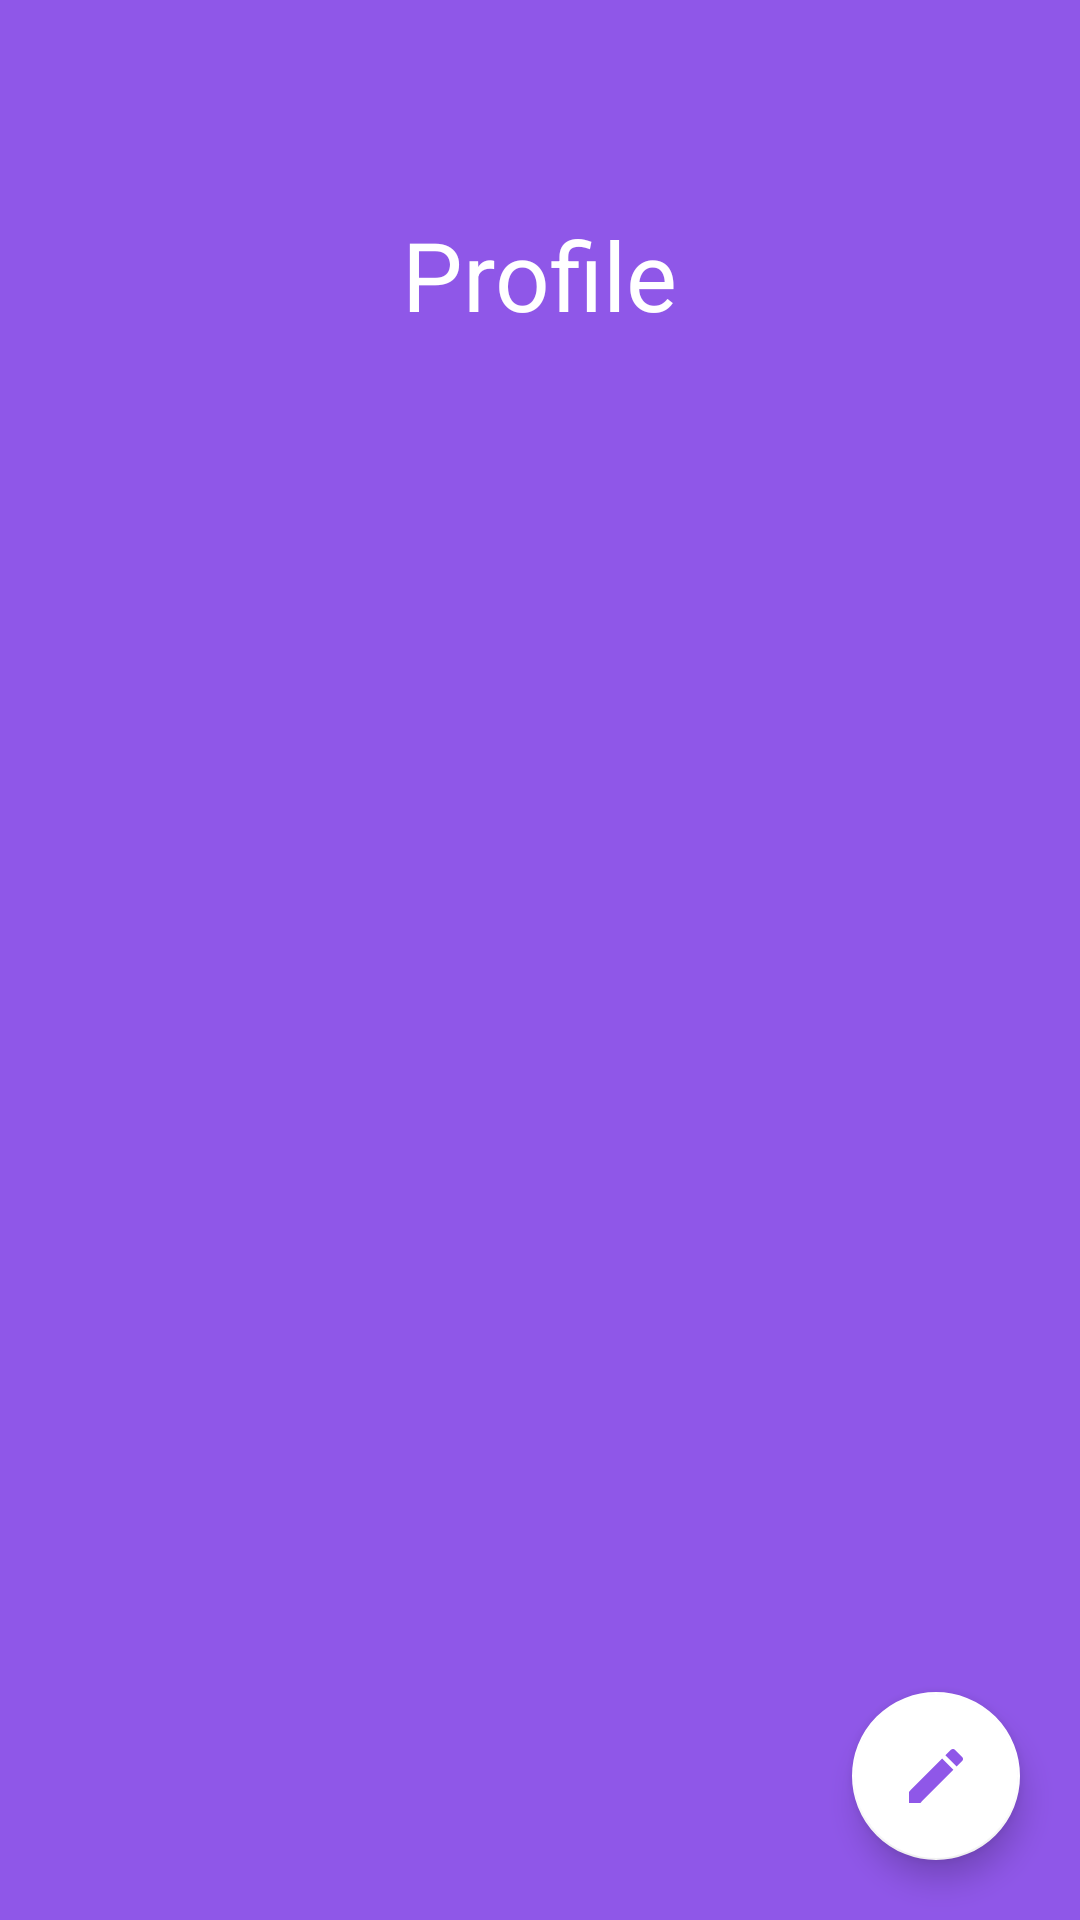

Named icons in this screenshot (1080x1920) and their centers, point (x, y):
edit: point (936, 1776)
